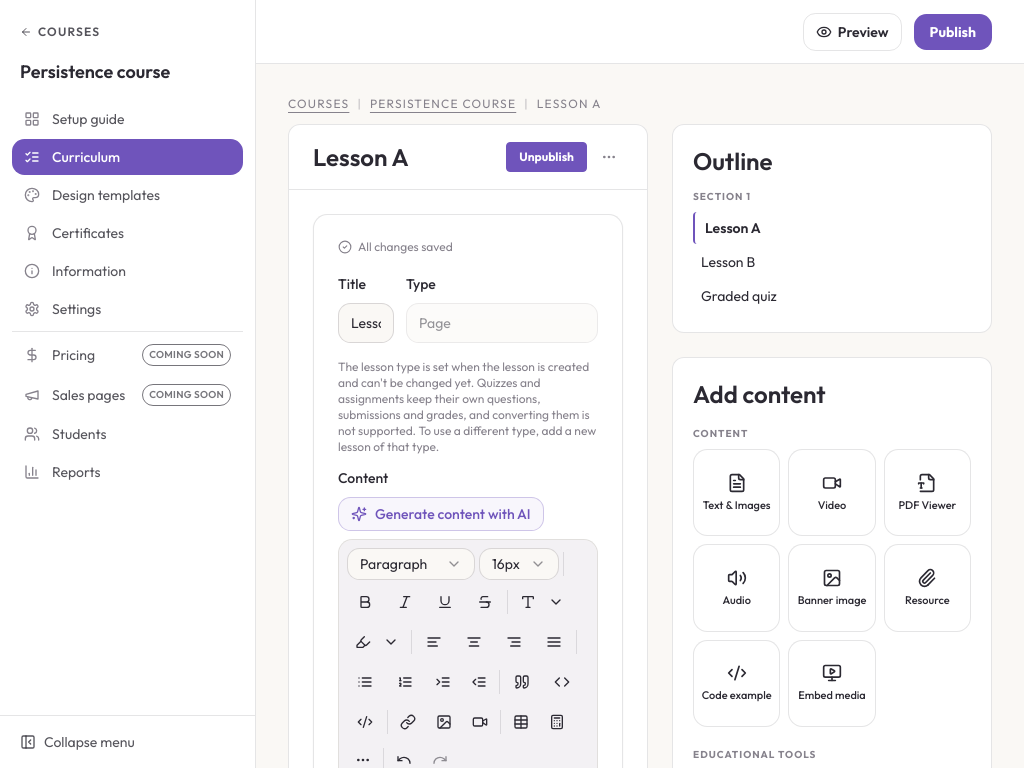
CourseBuilder lesson persistence › P03: a change saved in another tab is reported as a conflict, not overwritten
Later steps or results of the test are not shown.
Replace the text in the field labelled "Title" with "My title": {"x": 366, "y": 323} [338,303,394,343]
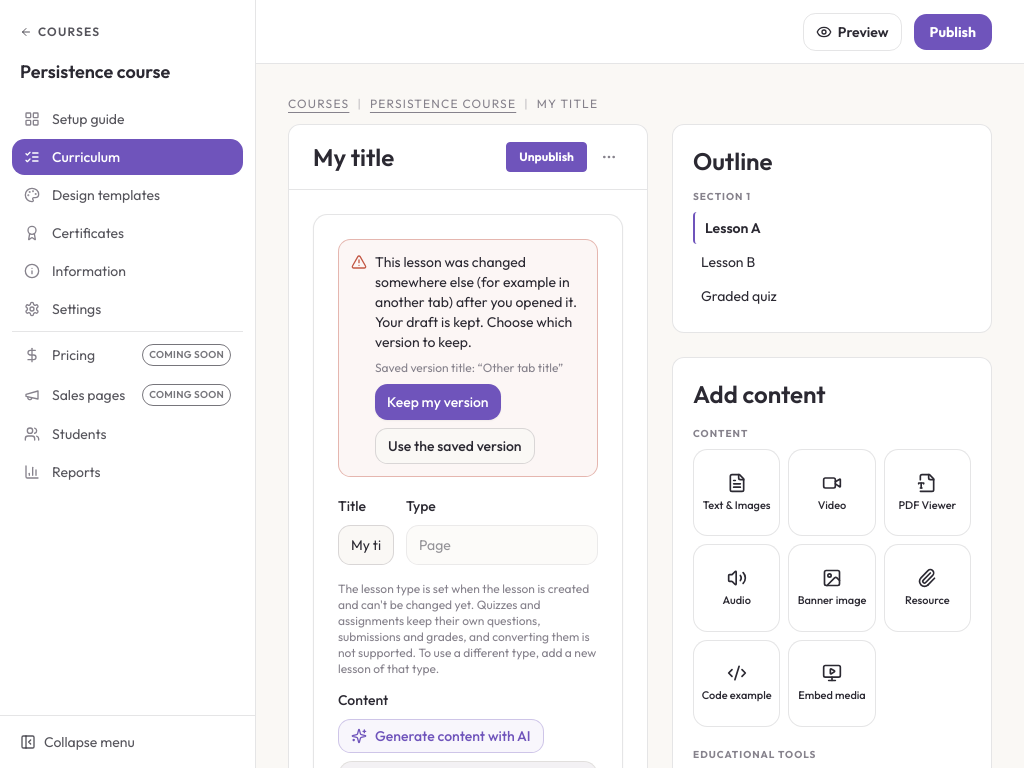
expect the message shows "changed somewhere else": met, box [375,253,577,351]
